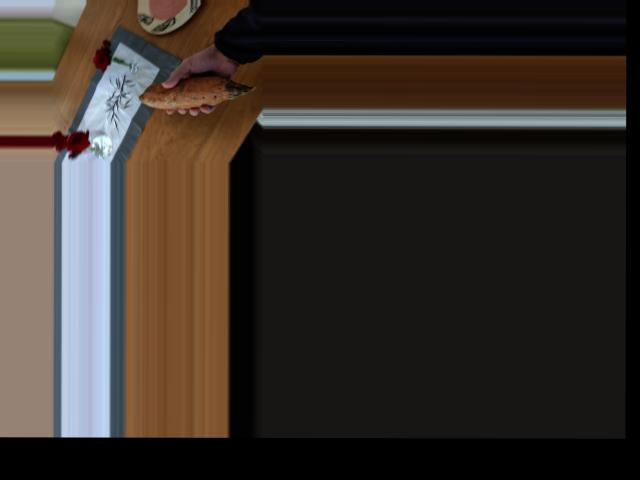sweet_potato: (136, 65, 245, 114)
